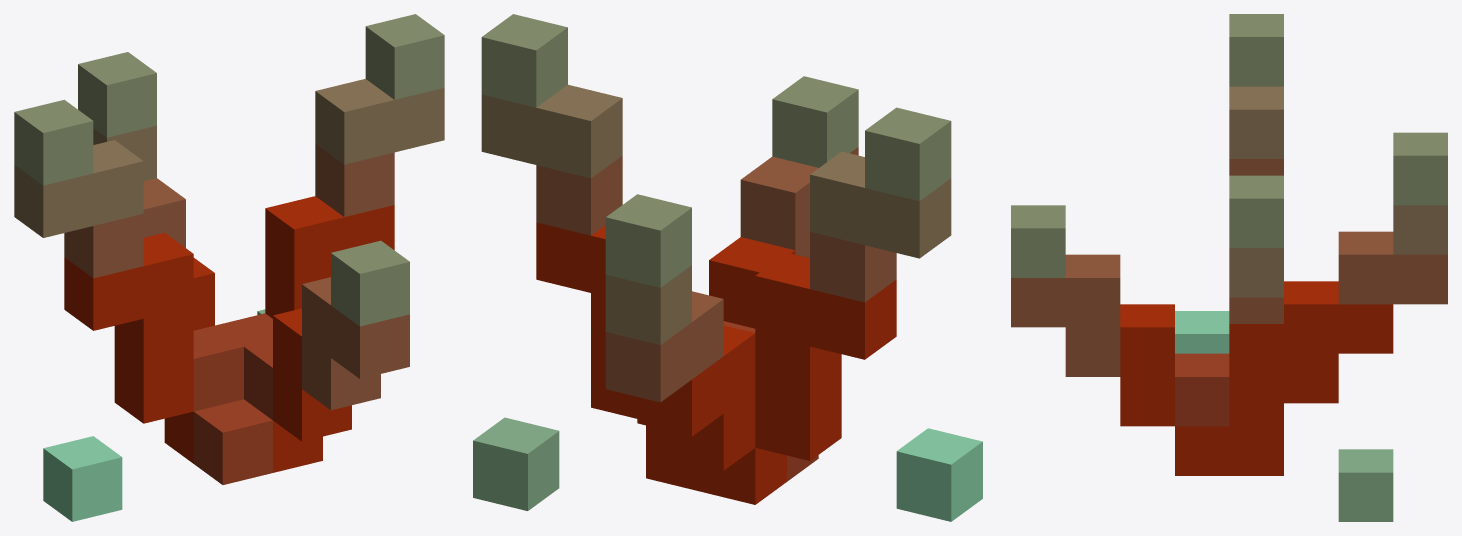
The model's file is spikes.obj.
The picture shows the model from 3 angles, left to right: view 1: azimuth 30°, elevation 25°; view 2: azimuth 150°, elevation 25°; view 3: azimuth 270°, elevation 25°; orthographic projection. The views are drawn at different scales.
Visible parts, largest first — view 1: spikes; view 2: spikes; view 3: spikes.
Part boxes in pixels (left/top/right/bottom): spikes: left=14, top=14, right=444, bottom=521; spikes: left=473, top=14, right=982, bottom=521; spikes: left=1011, top=14, right=1447, bottom=521.
Bounding box in the file's own units: 8 × 7 × 8.
1 material, 1 textured.
